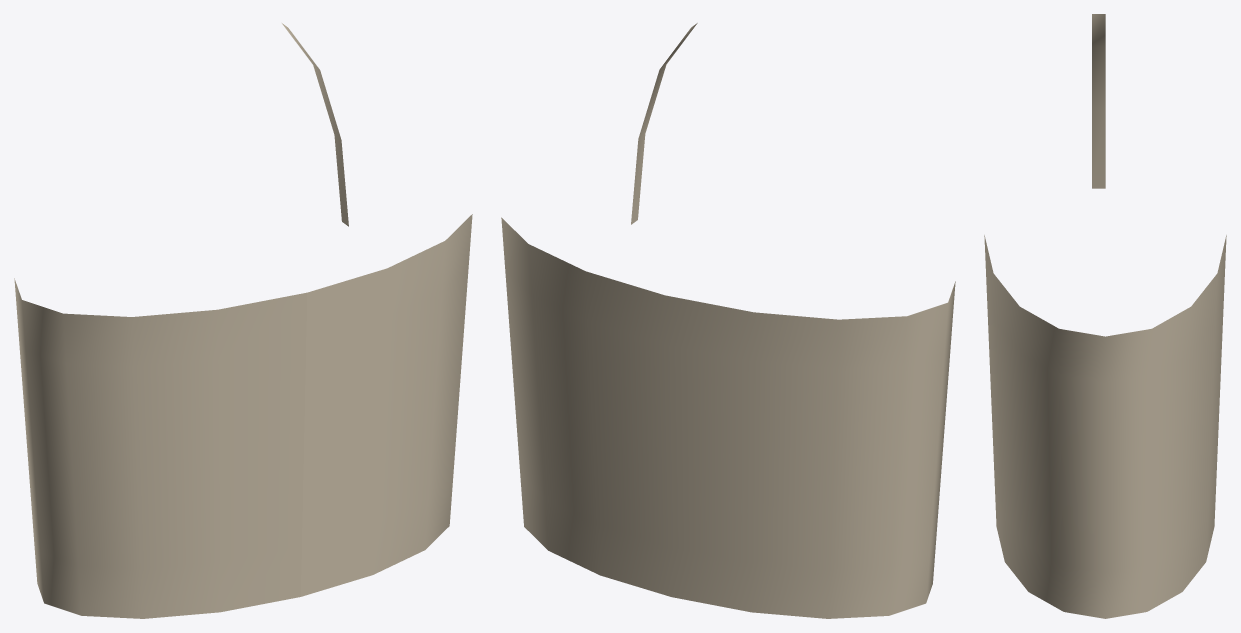
The model's file is tui_coi.glb.
3 views of the same model, side by side, from view 1: azimuth 30°, elevation 25°; view 2: azimuth 150°, elevation 25°; view 3: azimuth 270°, elevation 25° (orthographic). The views are drawn at different scales.
Visible parts, largest first — view 1: Accessory_TuiCoi_Node; view 2: Accessory_TuiCoi_Node; view 3: Accessory_TuiCoi_Node.
Part boxes in pixels (x1,y1,x2,y2): Accessory_TuiCoi_Node: (14, 23, 472, 618); Accessory_TuiCoi_Node: (501, 23, 955, 618); Accessory_TuiCoi_Node: (984, 14, 1226, 618).
Bounding box in the file's own units: 0.18 × 0.21 × 0.09.
